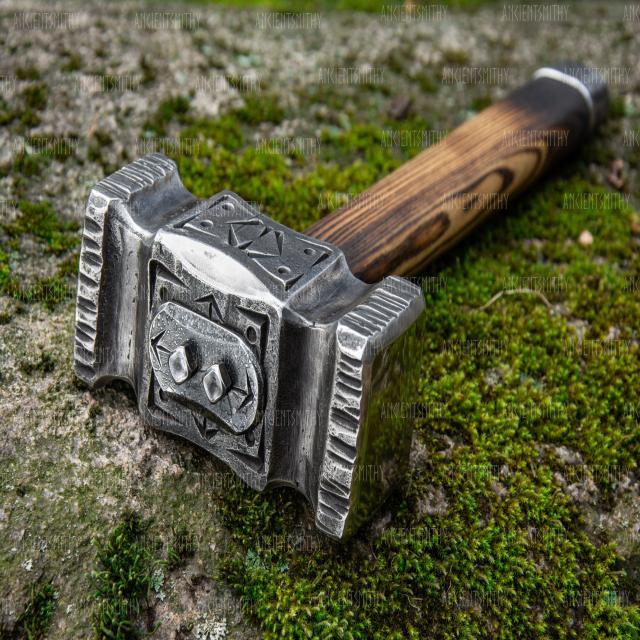hammer: (59, 53, 616, 550)
